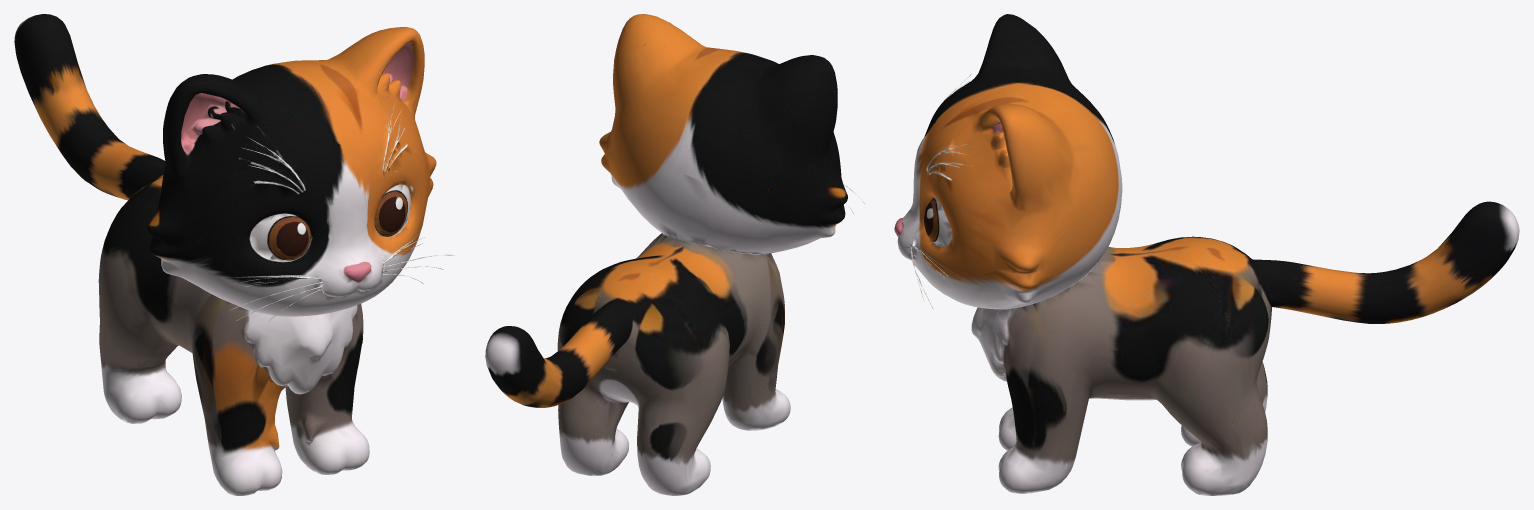
Rendered from katrien.glb.
3 views of the same model, side by side, from view 1: azimuth 30°, elevation 25°; view 2: azimuth 150°, elevation 25°; view 3: azimuth 270°, elevation 25° (orthographic). The views are drawn at different scales.
Size of the model in its own units: 0.9413 by 1.34 by 1.9.
1 material, 1 textured.
